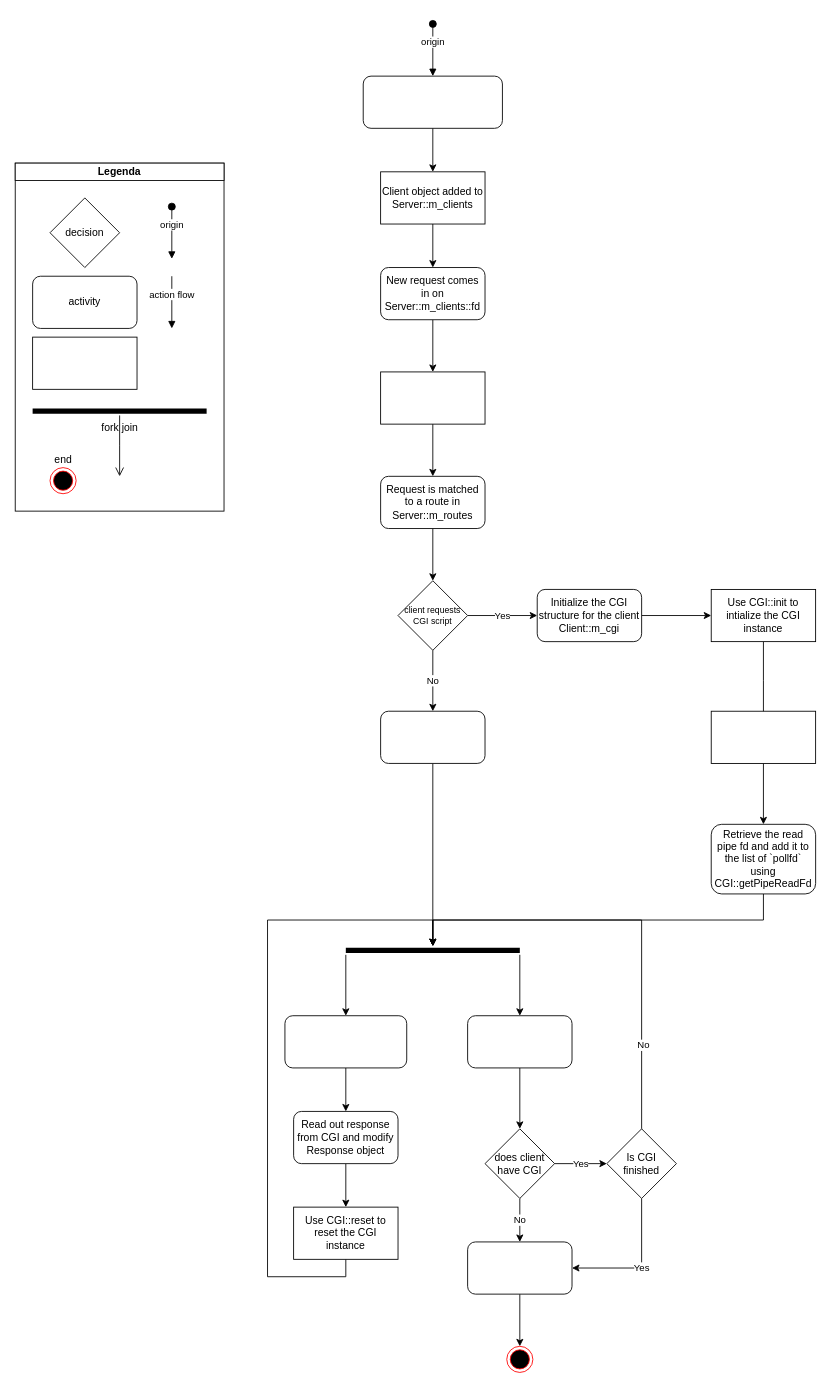
Image size: 831x1388. Some labels were removed from this diagram. The shapes that lost their labels are listed below. From the top down, each one's centre as x and y in pixels, then its label:
point 432,101: New client is accepted using Server::acceptNewConnection
point 84,362: class / object
point 432,397: Request object is build from data read from socket
point 432,736: Build response "normally"
point 763,736: Use CGI::exec to execute the CGI program in the background
point 345,1041: POLL_IN happens on Server::m_client::CGI::fd
point 519,1041: POLL_OUT happens on Server::m_client::fd
point 519,1267: Write response back to socket
